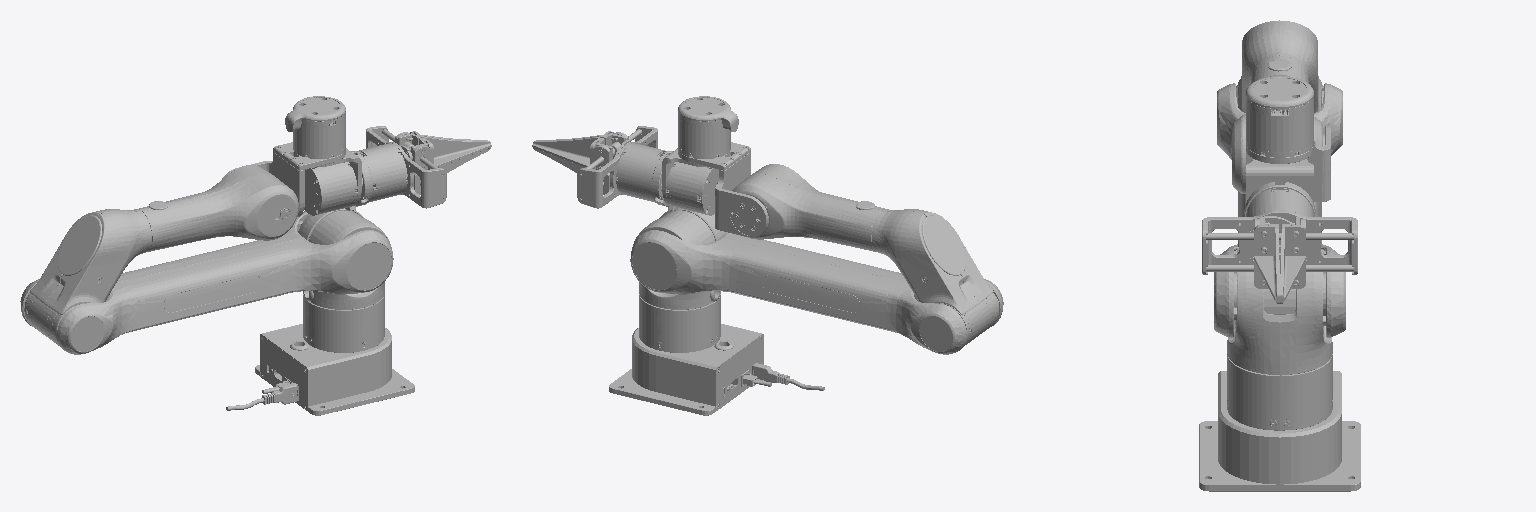
robot.urdf — carm_a3t:
<?xml version="1.0" encoding="utf-8"?>
<!-- This URDF was automatically created by SolidWorks to URDF Exporter! Originally created by Stephen Brawner (brawner@gmail.com) 
     Commit Version: 1.5.1-0-g916b5db  Build Version: 1.5.7152.31018
     For more information, please see http://wiki.ros.org/sw_urdf_exporter -->
<robot
  name="carm_a3t">
  <link
    name="base_link">
    <inertial>
      <origin
        xyz="-0.00409527660121373 5.90894936936664E-05 0.0446362213707342"
        rpy="0 0 0" />
      <mass
        value="1.36105969667866" />
      <inertia
        ixx="0.00122631089415545"
        ixy="-5.71672656457141E-07"
        ixz="1.05497237206159E-05"
        iyy="0.00113882987707198"
        iyz="-7.08769010282163E-07"
        izz="0.00191576649874932" />
    </inertial>
    <visual>
      <origin
        xyz="0 0 0"
        rpy="0 0 0" />
      <geometry>
        <mesh
          filename="package://carm_a3t/meshes/base_link.STL" />
      </geometry>
      <material
        name="">
        <color
          rgba="0.752941176470588 0.752941176470588 0.752941176470588 1" />
      </material>
    </visual>
    <collision>
      <origin
        xyz="0 0 0"
        rpy="0 0 0" />
      <geometry>
        <mesh
          filename="package://carm_a3t/meshes/base_link.STL" />
      </geometry>
    </collision>
  </link>
  <link
    name="link1">
    <inertial>
      <origin
        xyz="6.48441005695729E-05 0.0021796738160574 -0.0127443497980505"
        rpy="0 0 0" />
      <mass
        value="1.0691939136228" />
      <inertia
        ixx="0.00061595684409252"
        ixy="8.58812922462988E-07"
        ixz="1.01166600637937E-06"
        iyy="0.000855512176533614"
        iyz="1.14928683361585E-06"
        izz="0.000641480036189263" />
    </inertial>
    <visual>
      <origin
        xyz="0 0 0"
        rpy="0 0 0" />
      <geometry>
        <mesh
          filename="package://carm_a3t/meshes/link1.STL" />
      </geometry>
      <material
        name="">
        <color
          rgba="0.752941176470588 0.752941176470588 0.752941176470588 1" />
      </material>
    </visual>
    <collision>
      <origin
        xyz="0 0 0"
        rpy="0 0 0" />
      <geometry>
        <mesh
          filename="package://carm_a3t/meshes/link1.STL" />
      </geometry>
    </collision>
  </link>
  <joint
    name="joint1"
    type="revolute">
    <origin
      xyz="0 0 0.157"
      rpy="0 0 0" />
    <parent
      link="base_link" />
    <child
      link="link1" />
    <axis
      xyz="0 0 1" />
    <limit
      lower="-2.9671"
      upper="2.9671"
      effort="100"
      velocity="10" />
  </joint>
  <link
    name="link2">
    <inertial>
      <origin
        xyz="0.159632858855247 -0.000691707490590762 0.000590542545394937"
        rpy="0 0 0" />
      <mass
        value="0.784385785822906" />
      <inertia
        ixx="0.000284168780515451"
        ixy="1.08581894207497E-05"
        ixz="2.13041922697721E-06"
        iyy="0.00350547398449172"
        iyz="1.48335837301845E-07"
        izz="0.00352682625022791" />
    </inertial>
    <visual>
      <origin
        xyz="0 0 0"
        rpy="0 0 0" />
      <geometry>
        <mesh
          filename="package://carm_a3t/meshes/link2.STL" />
      </geometry>
      <material
        name="">
        <color
          rgba="0.752941176470588 0.752941176470588 0.752941176470588 1" />
      </material>
    </visual>
    <collision>
      <origin
        xyz="0 0 0"
        rpy="0 0 0" />
      <geometry>
        <mesh
          filename="package://carm_a3t/meshes/link2.STL" />
      </geometry>
    </collision>
  </link>
  <joint
    name="joint2"
    type="revolute">
    <origin
      xyz="0 0 0"
      rpy="1.5708 0 3.1416" />
    <parent
      link="link1" />
    <child
      link="link2" />
    <axis
      xyz="0 0 1" />
    <limit
      lower="0"
      upper="3.1416"
      effort="100"
      velocity="10" />
  </joint>
  <link
    name="link3">
    <inertial>
      <origin
        xyz="0.118976521263863 -0.0122316084828573 0.00145292838912772"
        rpy="0 0 0" />
      <mass
        value="1.36149292049338" />
      <inertia
        ixx="0.000559931868123051"
        ixy="-5.60834228860044E-05"
        ixz="1.38140175262678E-05"
        iyy="0.000898009834423871"
        iyz="5.21237226778979E-06"
        izz="0.00100905450705078" />
    </inertial>
    <visual>
      <origin
        xyz="0 0 0"
        rpy="0 0 0" />
      <geometry>
        <mesh
          filename="package://carm_a3t/meshes/link3.STL" />
      </geometry>
      <material
        name="">
        <color
          rgba="0.752941176470588 0.752941176470588 0.752941176470588 1" />
      </material>
    </visual>
    <collision>
      <origin
        xyz="0 0 0"
        rpy="0 0 0" />
      <geometry>
        <mesh
          filename="package://carm_a3t/meshes/link3.STL" />
      </geometry>
    </collision>
  </link>
  <joint
    name="joint3"
    type="revolute">
    <origin
      xyz="0.35 0 0"
      rpy="0 0 2.8248" />
    <parent
      link="link2" />
    <child
      link="link3" />
    <axis
      xyz="0 0 1" />
    <limit
      lower="-3.1416"
      upper="0"
      effort="100"
      velocity="10" />
  </joint>
  <link
    name="link4">
    <inertial>
      <origin
        xyz="0.0619870796562267 -0.0479683454400761 0.00567887456225965"
        rpy="0 0 0" />
      <mass
        value="0.511633619156129" />
      <inertia
        ixx="0.000202075741777805"
        ixy="8.66631649503644E-06"
        ixz="3.36669302213007E-05"
        iyy="0.00026907097425192"
        iyz="-1.21043009623123E-05"
        izz="0.000192285611442839" />
    </inertial>
    <visual>
      <origin
        xyz="0 0 0"
        rpy="0 0 0" />
      <geometry>
        <mesh
          filename="package://carm_a3t/meshes/link4.STL" />
      </geometry>
      <material
        name="">
        <color
          rgba="0.752941176470588 0.752941176470588 0.752941176470588 1" />
      </material>
    </visual>
    <collision>
      <origin
        xyz="0 0 0"
        rpy="0 0 0" />
      <geometry>
        <mesh
          filename="package://carm_a3t/meshes/link4.STL" />
      </geometry>
    </collision>
  </link>
  <joint
    name="joint4"
    type="revolute">
    <origin
      xyz="0.25362 0 0"
      rpy="0 0 0.31676" />
    <parent
      link="link3" />
    <child
      link="link4" />
    <axis
      xyz="0 0 1" />
    <limit
      lower="-1.5708"
      upper="1.5708"
      effort="100"
      velocity="10" />
  </joint>
  <link
    name="link5">
    <inertial>
      <origin
        xyz="6.67979071629441E-05 -0.011817030838864 -0.00581003541778291"
        rpy="0 0 0" />
      <mass
        value="0.410290998323558" />
      <inertia
        ixx="0.000144471829706361"
        ixy="-9.79885495339684E-08"
        ixz="4.58567267657772E-08"
        iyy="0.000174504574575317"
        iyz="1.50719723817707E-05"
        izz="0.000132831845479143" />
    </inertial>
    <visual>
      <origin
        xyz="0 0 0"
        rpy="0 0 0" />
      <geometry>
        <mesh
          filename="package://carm_a3t/meshes/link5.STL" />
      </geometry>
      <material
        name="">
        <color
          rgba="0.752941176470588 0.752941176470588 0.752941176470588 1" />
      </material>
    </visual>
    <collision>
      <origin
        xyz="0 0 0"
        rpy="0 0 0" />
      <geometry>
        <mesh
          filename="package://carm_a3t/meshes/link5.STL" />
      </geometry>
    </collision>
  </link>
  <joint
    name="joint5"
    type="revolute">
    <origin
      xyz="0.0785 0 0"
      rpy="-1.5708 1.5708 0" />
    <parent
      link="link4" />
    <child
      link="link5" />
    <axis
      xyz="0 0 1" />
    <limit
      lower="-1.6581"
      upper="1.6581"
      effort="100"
      velocity="10" />
  </joint>
  <link
    name="link6">
    <inertial>
      <origin
        xyz="-9.19711299322279E-05 6.0325920551005E-05 -0.00681102706144216"
        rpy="0 0 0" />
      <mass
        value="0.0450206270542347" />
      <inertia
        ixx="5.78257011377648E-06"
        ixy="-3.1894396915206E-10"
        ixz="-1.05281319489723E-08"
        iyy="5.91763358506137E-06"
        iyz="-6.16619179943041E-09"
        izz="1.03194402016347E-05" />
    </inertial>
    <visual>
      <origin
        xyz="0 0 0"
        rpy="0 0 0" />
      <geometry>
        <mesh
          filename="package://carm_a3t/meshes/link6.STL" />
      </geometry>
      <material
        name="">
        <color
          rgba="0.752941176470588 0.752941176470588 0.752941176470588 1" />
      </material>
    </visual>
    <collision>
      <origin
        xyz="0 0 0"
        rpy="0 0 0" />
      <geometry>
        <mesh
          filename="package://carm_a3t/meshes/link6.STL" />
      </geometry>
    </collision>
  </link>
  <joint
    name="joint6"
    type="revolute">
    <origin
      xyz="0 -0.0465 0"
      rpy="1.5708 1.5708 0" />
    <parent
      link="link5" />
    <child
      link="link6" />
    <axis
      xyz="0 0 1" />
    <limit
      lower="-2.8274"
      upper="2.8274"
      effort="100"
      velocity="10" />
  </joint>
  <link
    name="gripper_base">
    <inertial>
      <origin
        xyz="-7.52495136202569E-08 -5.14380633055769E-05 0.0345764101476856"
        rpy="0 0 0" />
      <mass
        value="0.658507662" />
      <inertia
        ixx="0.000348742914083873"
        ixy="-8.16301234165744E-07"
        ixz="1.87273262843196E-09"
        iyy="0.000143834107701613"
        iyz="-1.28240035983322E-07"
        izz="0.000390529644790605" />
    </inertial>
    <visual>
      <origin
        xyz="0 0 0"
        rpy="0 0 0" />
      <geometry>
        <mesh
          filename="package://carm_a3t/meshes/gripper_base.STL" />
      </geometry>
      <material
        name="">
        <color
          rgba="0.752941176470588 0.752941176470588 0.752941176470588 1" />
      </material>
    </visual>
    <collision>
      <origin
        xyz="0 0 0"
        rpy="0 0 0" />
      <geometry>
        <mesh
          filename="package://carm_a3t/meshes/gripper_base.STL" />
      </geometry>
    </collision>
  </link>
  <joint
    name="joint6_to_gripper_base"
    type="fixed">
    <origin
      xyz="0 0 0"
      rpy="0 0 0" />
    <parent
      link="link6" />
    <child
      link="gripper_base" />
  </joint>  
  <link
    name="gripper_right">
    <inertial>
      <origin
        xyz="-0.00119999830259251 -0.0068017764750606 -0.00828189774110881"
        rpy="0 0 0" />
      <mass
        value="0.0836748962697291" />
      <inertia
        ixx="1.28447236902658E-05"
        ixy="-1.31586539542703E-12"
        ixz="2.51060291849457E-13"
        iyy="9.36611746344693E-06"
        iyz="9.98513535366314E-07"
        izz="1.82593554269922E-05" />
    </inertial>
    <visual>
      <origin
        xyz="0 0 0"
        rpy="0 0 0" />
      <geometry>
        <mesh
          filename="package://carm_a3t/meshes/gripper_right.STL" />
      </geometry>
      <material
        name="">
        <color
          rgba="0.752941176470588 0.752941176470588 0.752941176470588 1" />
      </material>
    </visual>
    <collision>
      <origin
        xyz="0 0 0"
        rpy="0 0 0" />
      <geometry>
        <mesh
          filename="package://carm_a3t/meshes/gripper_right.STL" />
      </geometry>
    </collision>
  </link>
  <joint
    name="gripper_right_joint"
    type="prismatic">
    <origin
      xyz="0.0012 -0.0217 0.081"
      rpy="1.5708 0 0" />
    <parent
      link="gripper_base" />
    <child
      link="gripper_right" />
    <axis
      xyz="0 0 1" />
    <limit
      lower="0"
      upper="0.037"
      effort="27"
      velocity="10" />
  </joint>
  <link
    name="gripper_left">
    <inertial>
      <origin
        xyz="0.00120000169738422 -0.00680177647501988 -0.0082818977411101"
        rpy="0 0 0" />
      <mass
        value="0.0836748962697291" />
      <inertia
        ixx="1.28447236902712E-05"
        ixy="-1.31587760368984E-12"
        ixz="2.51061322210124E-13"
        iyy="9.36611746344158E-06"
        iyz="9.98513535358944E-07"
        izz="1.82593554269922E-05" />
    </inertial>
    <visual>
      <origin
        xyz="0 0 0"
        rpy="0 0 0" />
      <geometry>
        <mesh
          filename="package://carm_a3t/meshes/gripper_left.STL" />
      </geometry>
      <material
        name="">
        <color
          rgba="0.752941176470588 0.752941176470588 0.752941176470588 1" />
      </material>
    </visual>
    <collision>
      <origin
        xyz="0 0 0"
        rpy="0 0 0" />
      <geometry>
        <mesh
          filename="package://carm_a3t/meshes/gripper_left.STL" />
      </geometry>
    </collision>
  </link>
  <joint
    name="gripper_left_joint"
    type="prismatic">
    <origin
      xyz="0.0012 0.0217 0.081"
      rpy="1.5708 0 3.1416" />
    <parent
      link="gripper_base" />
    <child
      link="gripper_left" />
    <axis
      xyz="0 0 1" />
    <mimic joint="gripper_right_joint" multiplier="1" offset="0" />
    <limit
      lower="0"
      upper="0.037"
      effort="27"
      velocity="10" />
  </joint>
</robot>

--- Facts derived from the render (not from the file) ---
The picture shows the robot from 3 angles, left to right: view 1: azimuth 30°, elevation 25°; view 2: azimuth 150°, elevation 25°; view 3: azimuth 270°, elevation 25°; orthographic projection.
Model carm_a3t with 10 links and 9 joints (6 revolute, 2 prismatic, 1 fixed), rooted at base_link, posed all joints at 0.
Visible links, largest first — view 1: link2, link3, base_link, link4, gripper_base, link1, link5, gripper_left; view 2: link2, link3, base_link, link4, gripper_base, link1, link5, gripper_right; view 3: base_link, link1, gripper_base, link4, link3, link2, gripper_left, gripper_right, link5.
Boxes of the visible links, x1,y1,x2,y2 form: link2: (20,211,393,354); link3: (24,165,298,345); base_link: (226,294,414,415); link4: (222,96,345,216); gripper_base: (351,126,446,208); link1: (298,208,389,309); link5: (304,148,361,215); gripper_left: (410,137,491,194); link2: (630,230,1003,354); link3: (732,164,998,346); base_link: (609,294,824,415); link4: (678,96,768,237); gripper_base: (577,126,672,208); link1: (634,208,725,309); link5: (662,148,718,215); gripper_right: (532,137,614,194); base_link: (1199,354,1360,491); link1: (1227,249,1332,375); gripper_base: (1202,182,1357,274); link4: (1246,75,1330,201); link3: (1232,20,1323,193); link2: (1214,83,1345,337); gripper_left: (1254,217,1279,303); gripper_right: (1280,217,1305,303); link5: (1246,159,1313,202).
Size in the robot's own frame: 0.5606 by 0.135 by 0.333 metres.
10 mesh visuals loaded from 10 distinct referenced files (10 binary STL).
